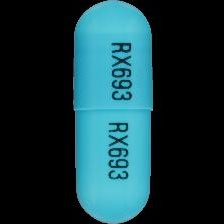33261-448: (0, 0, 224, 224)
